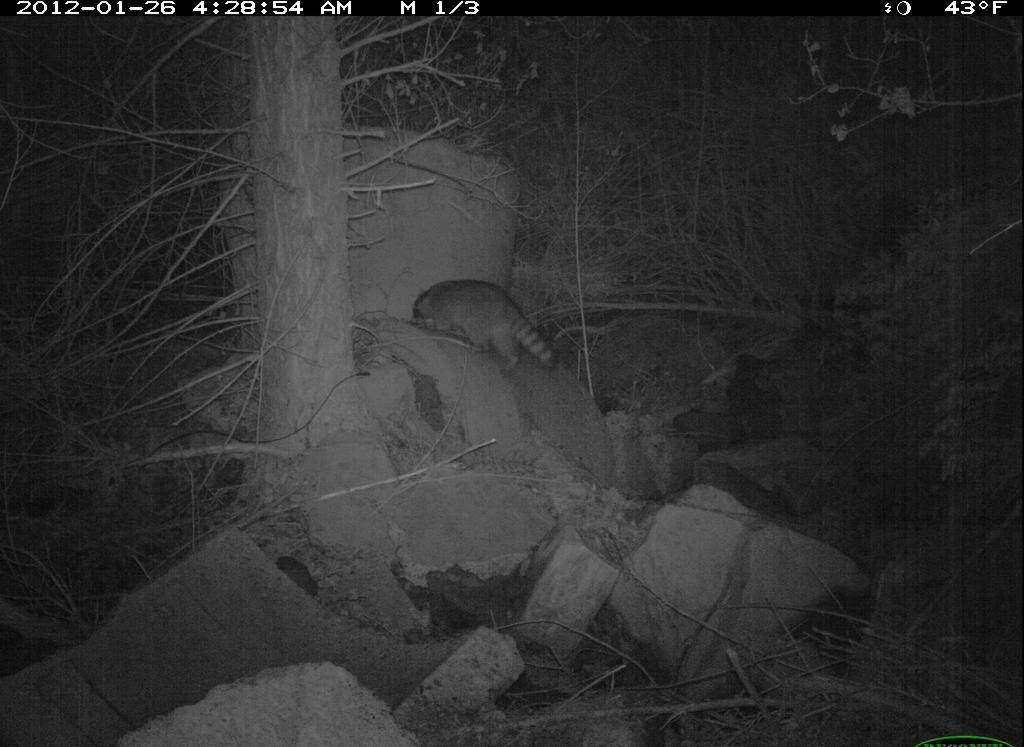raccoon: (406, 272, 566, 381)
